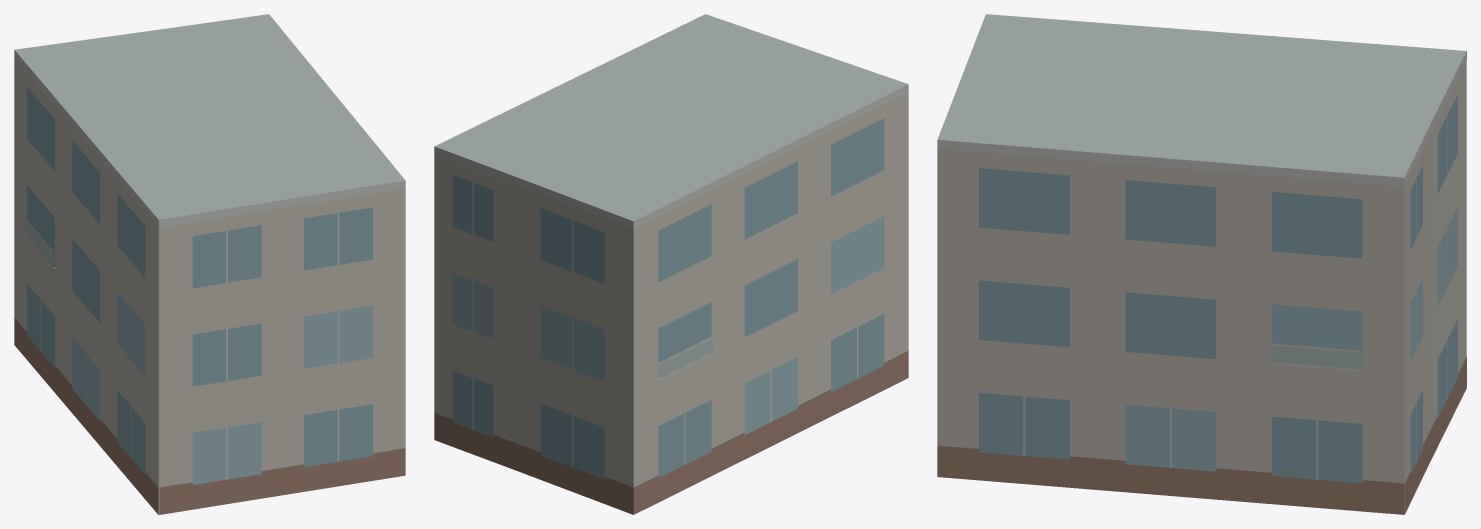
The model's file is survey-upis-32462812.glb.
The picture shows the model from 3 angles, left to right: view 1: azimuth 30°, elevation 25°; view 2: azimuth 150°, elevation 25°; view 3: azimuth 270°, elevation 25°; orthographic projection. The views are drawn at different scales.
Parts seen in each view (by area): view 1: survey-upis-32462812.tmp; view 2: survey-upis-32462812.tmp; view 3: survey-upis-32462812.tmp.
Part boxes in pixels (<box>): survey-upis-32462812.tmp: <box>14,14,405,514</box>; survey-upis-32462812.tmp: <box>434,14,908,514</box>; survey-upis-32462812.tmp: <box>937,14,1466,514</box>.
Size of the model in its own units: 9.54 by 9.15 by 13.03.
